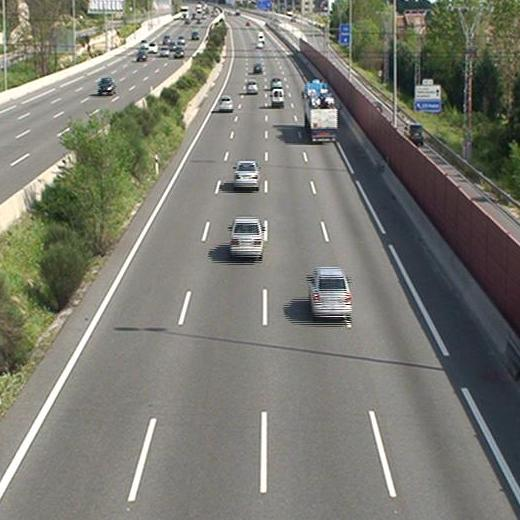car: (306, 270, 352, 319), (227, 219, 264, 258), (230, 161, 260, 190), (218, 94, 234, 111), (244, 79, 259, 94), (251, 62, 263, 75), (269, 77, 282, 88)
truck: (300, 82, 338, 142)
van: (269, 88, 286, 108)
